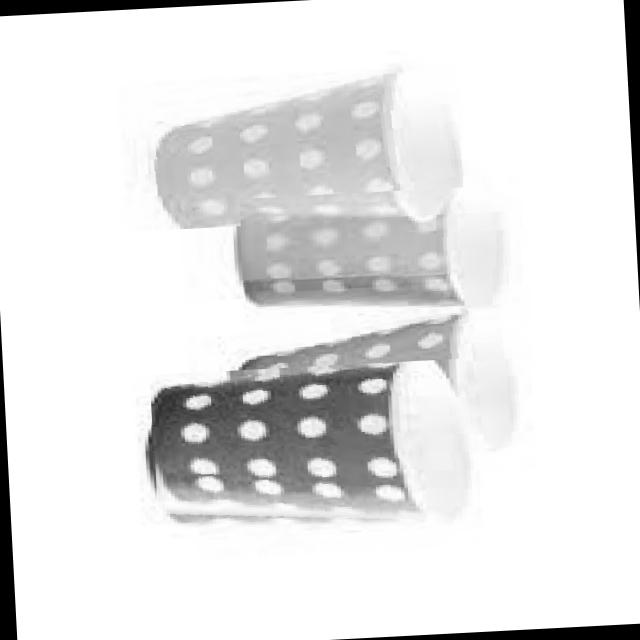PaperCardboard: (146, 62, 463, 229), (152, 361, 475, 521), (229, 310, 519, 449), (241, 188, 506, 308)
